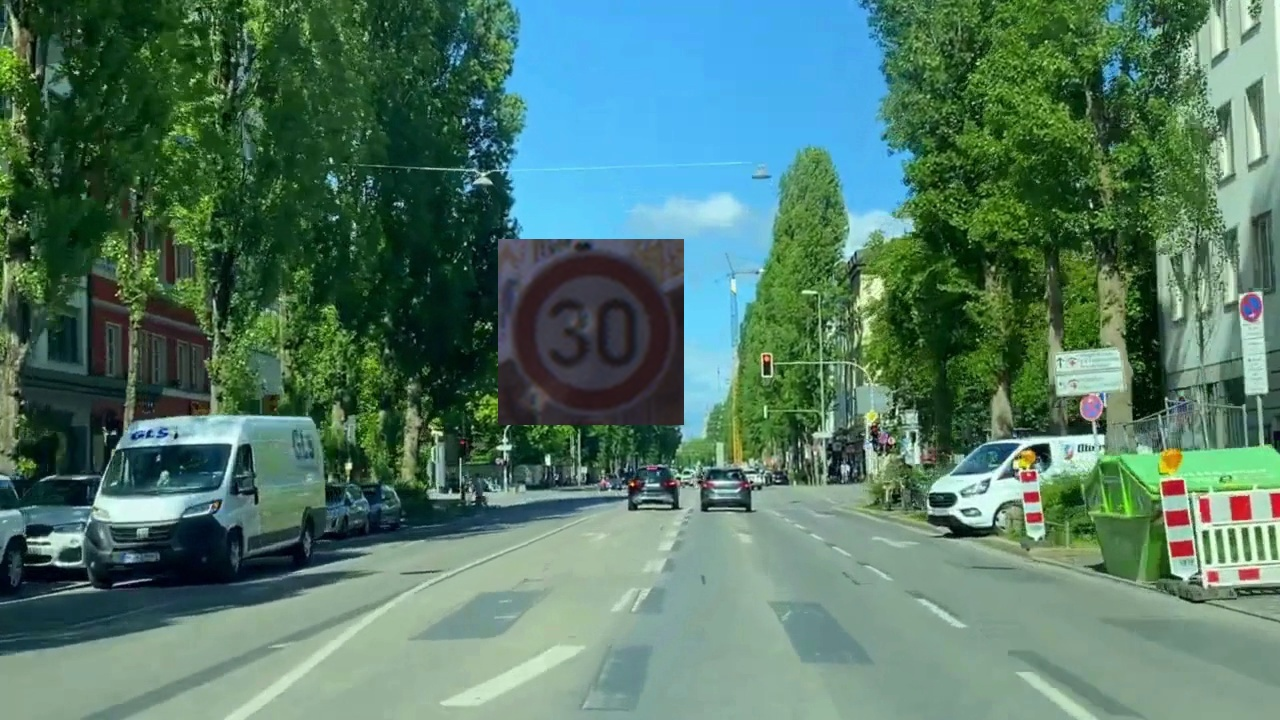Speed 30: (498, 239, 684, 425)
